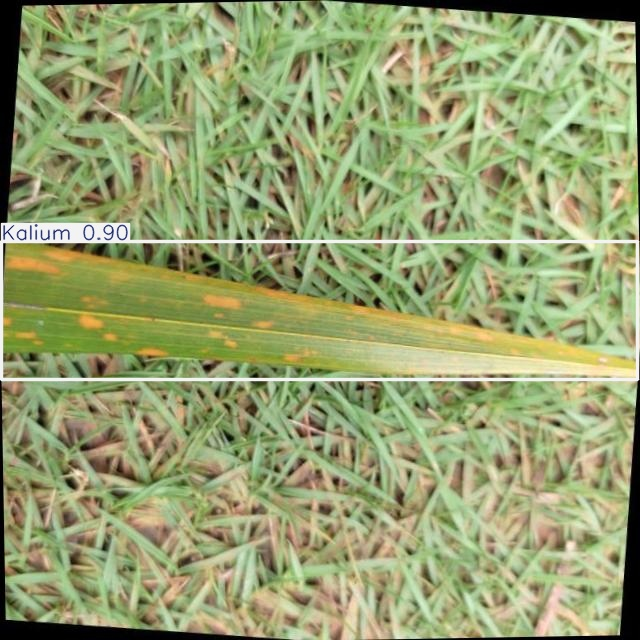Kalium: (2, 241, 638, 379)
